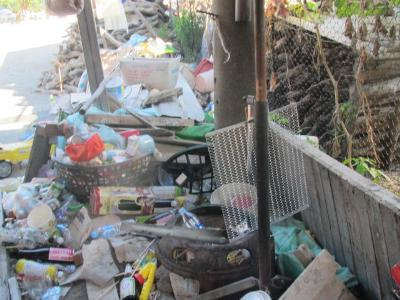bottle: (178, 206, 213, 245), (16, 245, 80, 264), (12, 257, 58, 282), (117, 260, 139, 300)
bowl: (27, 204, 56, 231)
